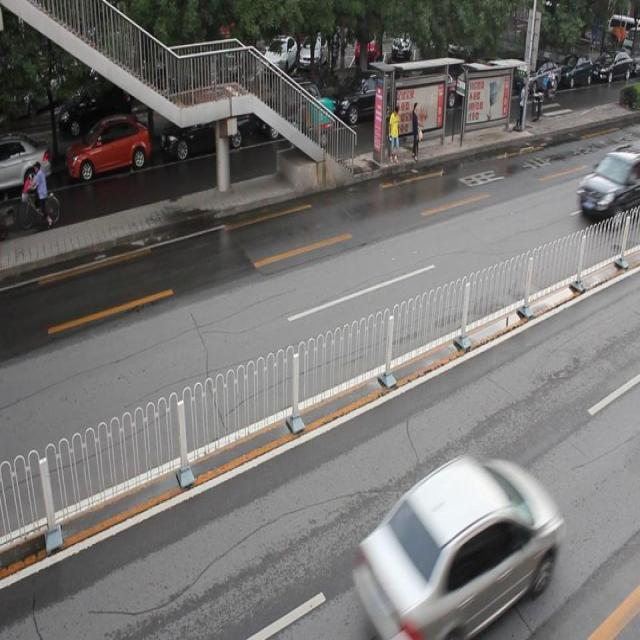car: (350, 457, 564, 640), (66, 116, 151, 181), (573, 146, 640, 221), (158, 106, 249, 159), (260, 78, 320, 138), (337, 68, 397, 123), (1, 137, 52, 195)
